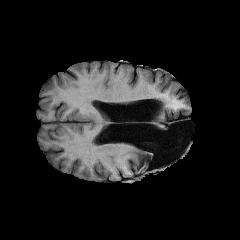glioma: (126, 136, 185, 172)
